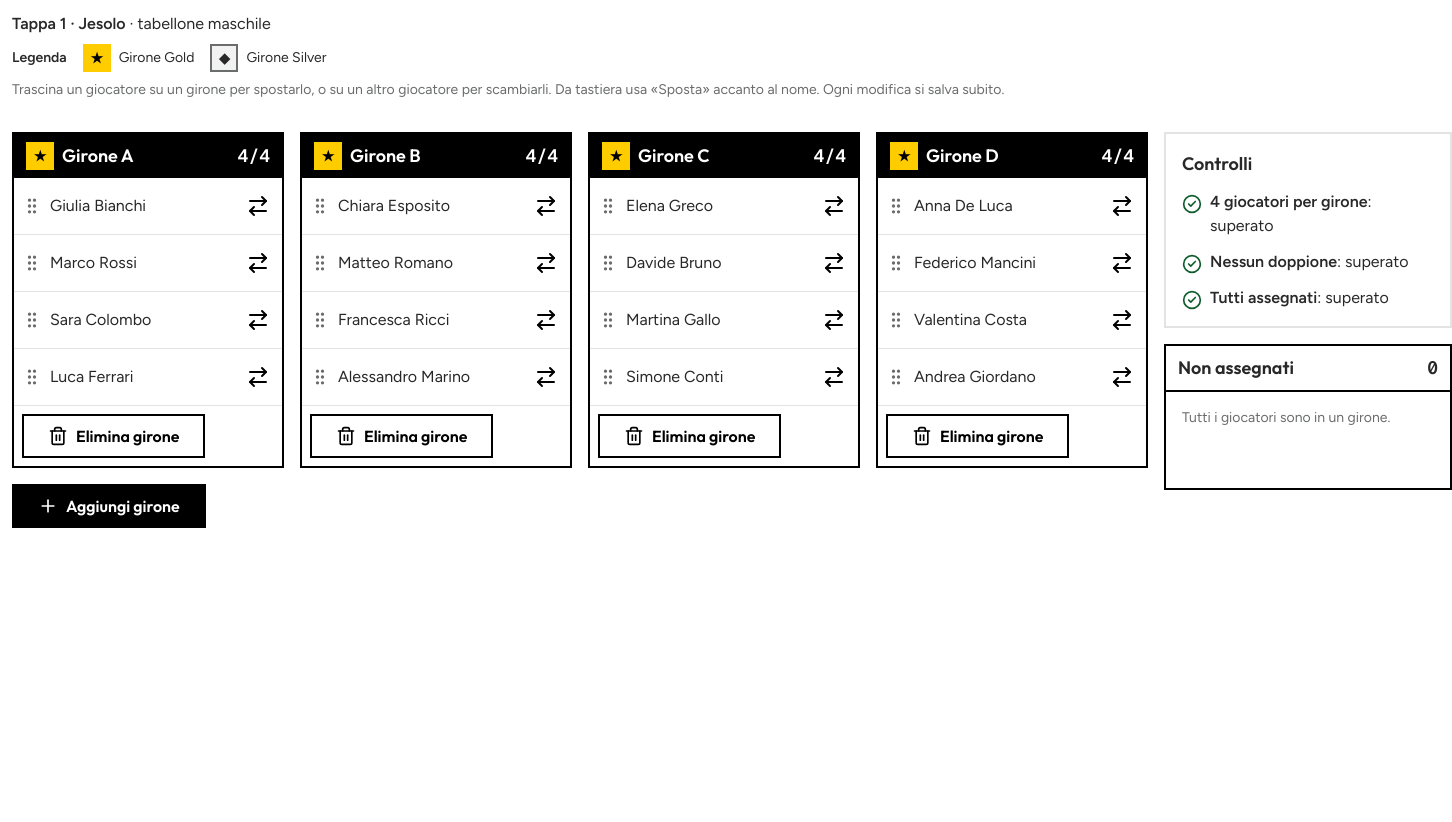
Test: GironiEditor (w-admin-gironi) › con un conflitto mostra i gironi aggiornati e lo dice
Click the button "Aggiungi girone": (109, 506) [12,484,206,528]
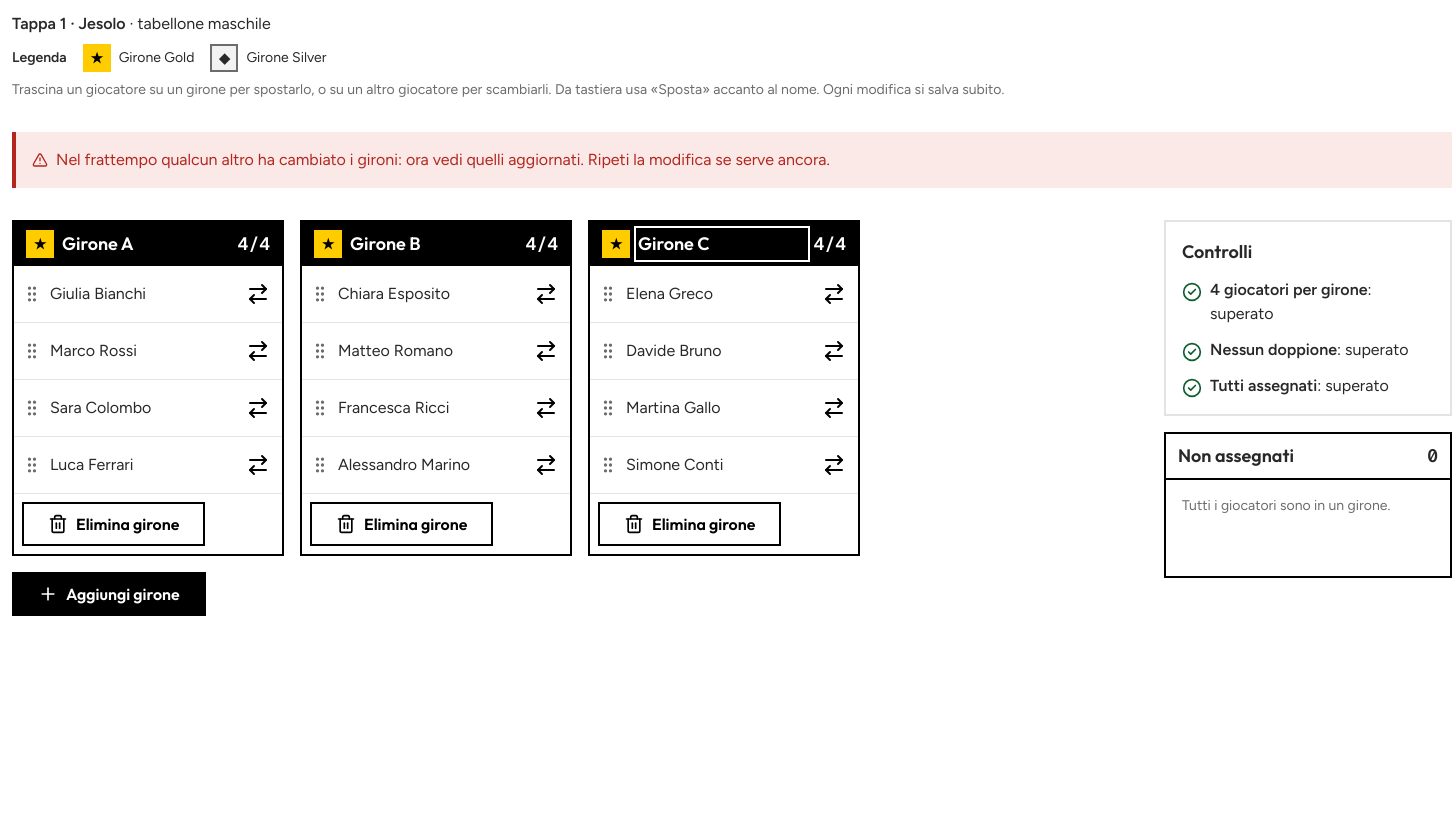
Check: the message shows "Nel frattempo qualcun altro ha cambiato i gironi: ora vedi quelli aggiornati. Ripeti la modifica se serve ancora.", box [56,150,830,169]
Check: the number of elements with test id "girone-card" is 3, box [12,220,284,556]; [300,220,572,556]; [588,220,860,556]
